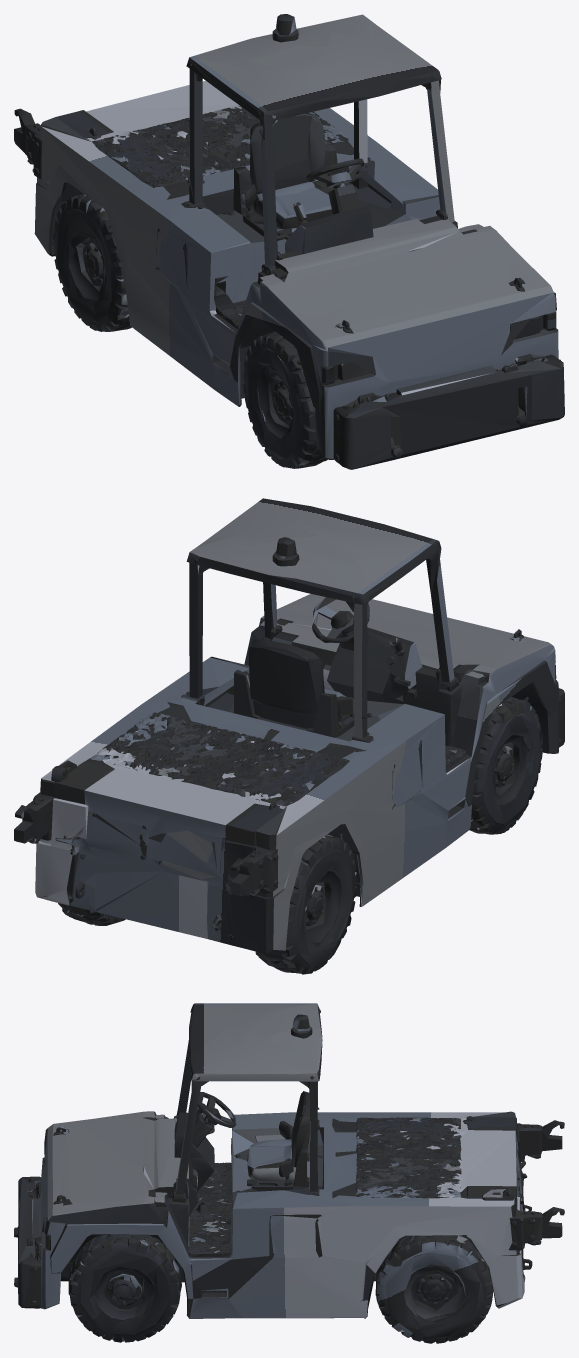
File: stellar_tug.glb
3 views of the same model, one above another, from view 1: azimuth 30°, elevation 25°; view 2: azimuth 150°, elevation 25°; view 3: azimuth 270°, elevation 25° (orthographic). The views are drawn at different scales.
Parts seen in each view (by area): view 1: LO; view 2: LO; view 3: LO.
Boxes of the visible parts, bbox=[...] form: LO: bbox=[14, 14, 564, 469]; LO: bbox=[14, 498, 564, 974]; LO: bbox=[14, 1003, 564, 1343].
Bounding box in the file's own units: 1.87 × 2.54 × 4.49.
1 material, 1 textured.
